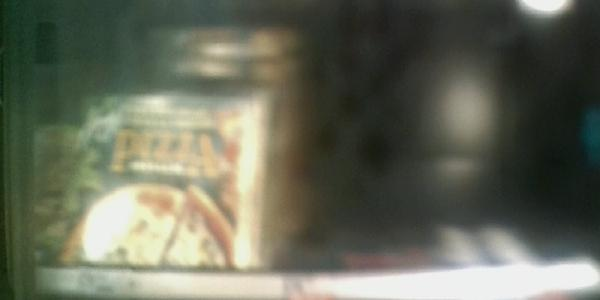pizza1: (37, 91, 258, 266)
pizza2: (151, 26, 301, 57)
